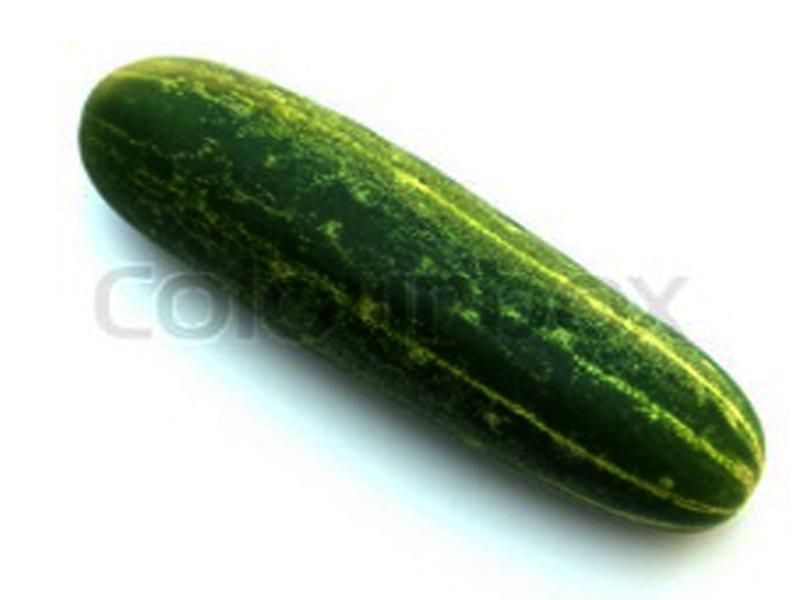Cucumber: (81, 53, 768, 529)
